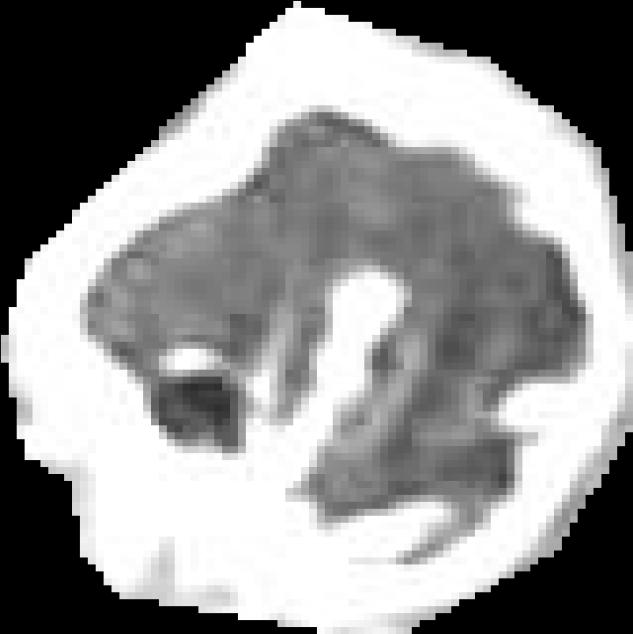tumor_good_chance: (1, 1, 633, 634)
